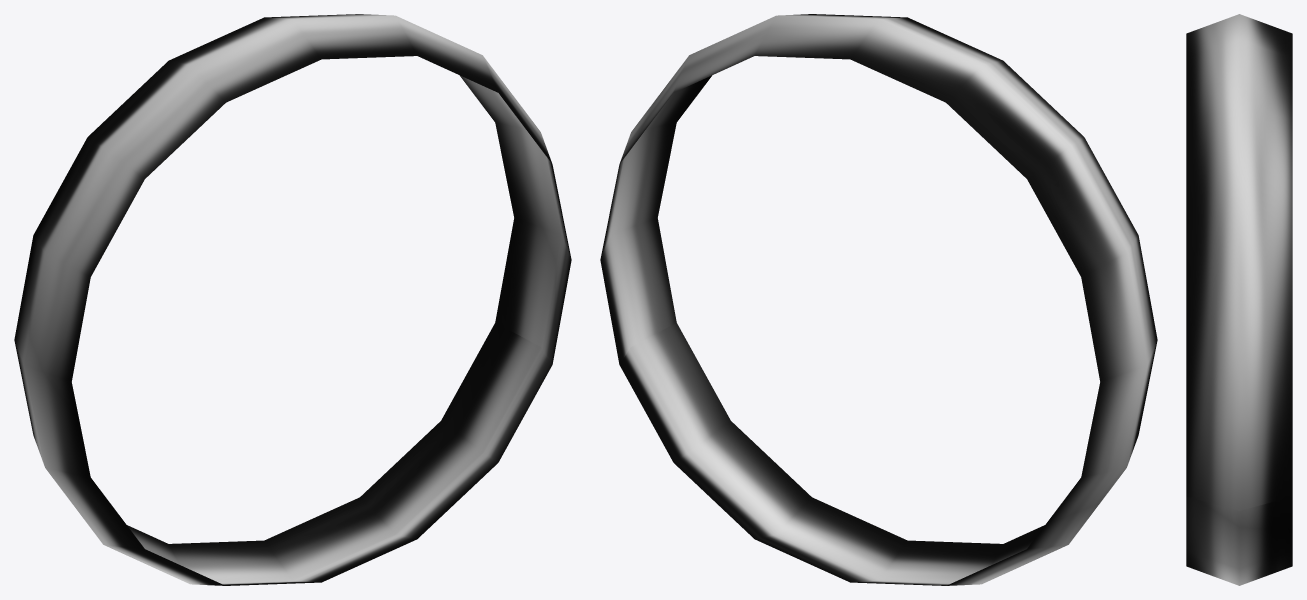
The model's file is MeshBoomBees.fbx.
3 renders of one model, left to right at view 1: azimuth 30°, elevation 25°; view 2: azimuth 150°, elevation 25°; view 3: azimuth 270°, elevation 25°, orthographic. The views are drawn at different scales.
Visible parts, largest first — view 1: Cylinder; view 2: Cylinder; view 3: Cylinder.
Boxes of the visible parts, box(x1,y1,x2,y2) form: Cylinder: box(14, 14, 571, 585); Cylinder: box(600, 14, 1157, 585); Cylinder: box(1186, 14, 1292, 585).
Bounding box in the file's own units: 223 × 223 × 41.27.
